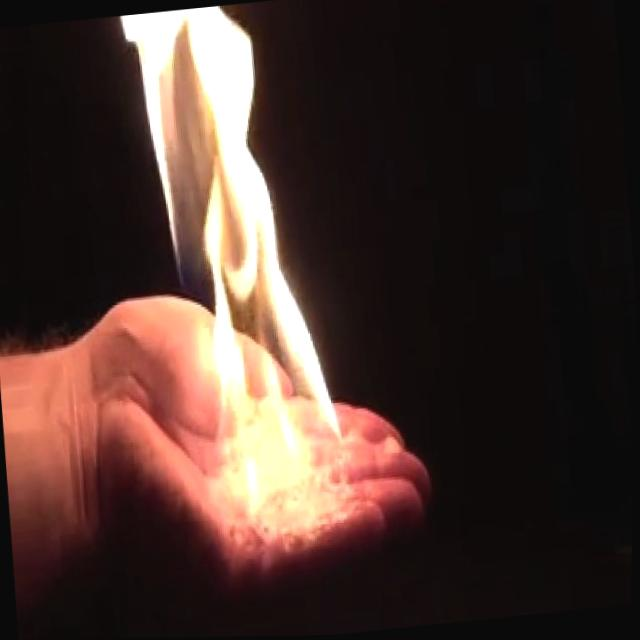Fire: (109, 0, 364, 526)
